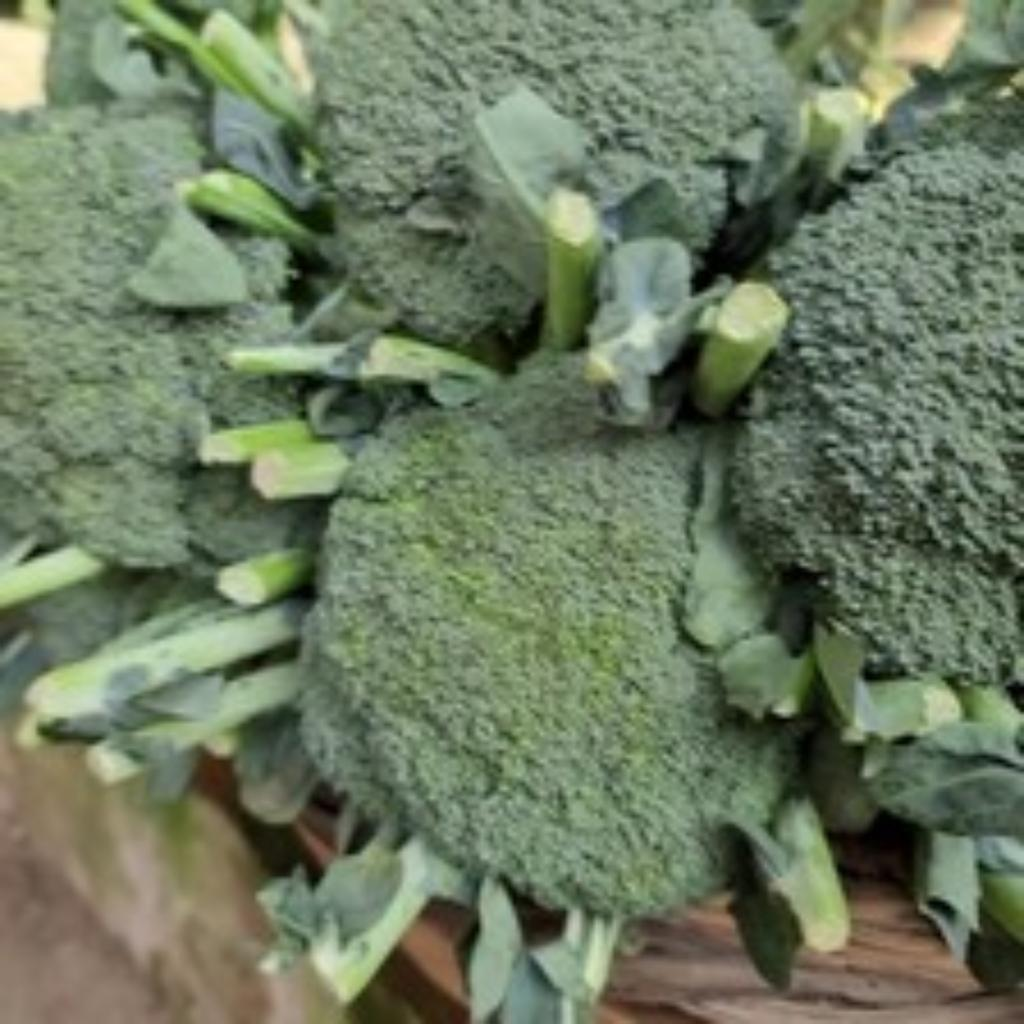Broccoli: (302, 356, 796, 915), (304, 356, 798, 915), (320, 0, 798, 353), (320, 0, 798, 351), (734, 148, 1024, 681), (734, 148, 1024, 681), (0, 104, 290, 567), (0, 104, 288, 567)
